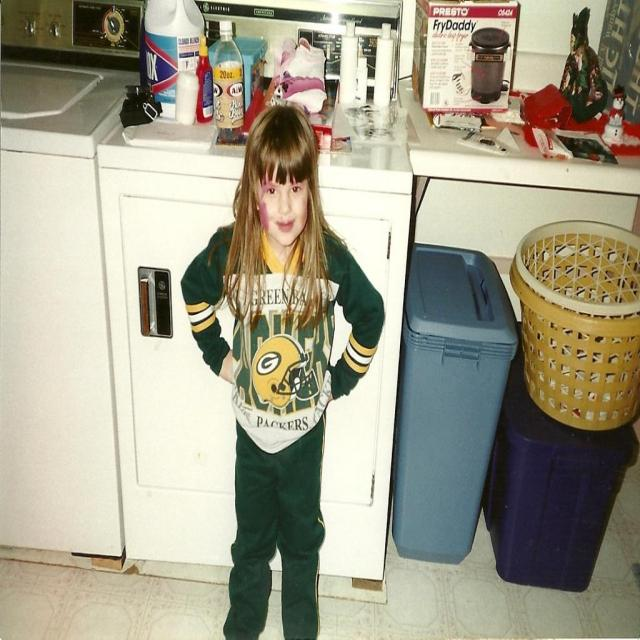nomask: (256, 156, 305, 246)
